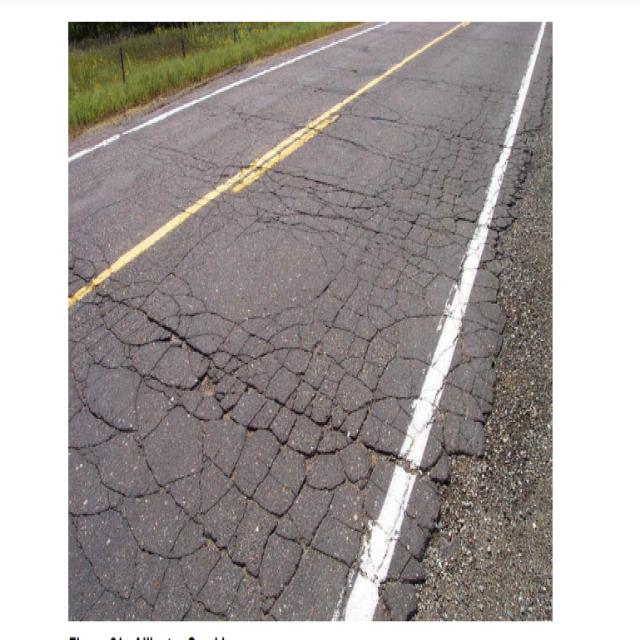Drain Hole: (167, 280, 465, 632)
Pothole: (378, 135, 536, 621)
